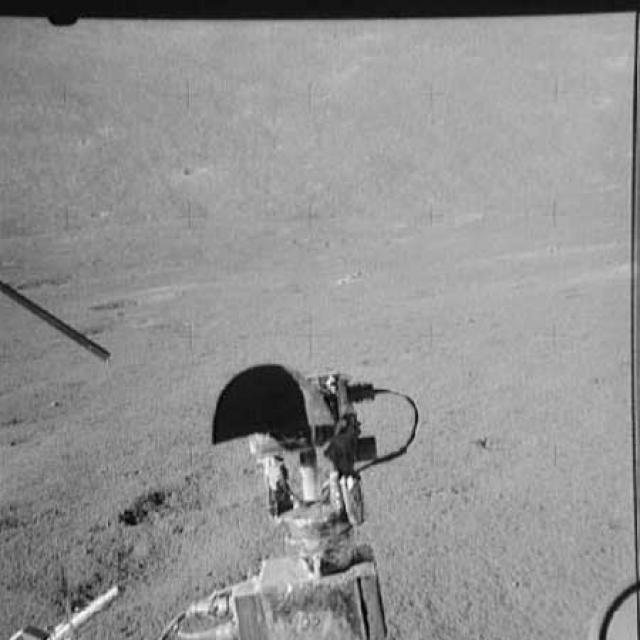artifact: (156, 357, 424, 639), (0, 282, 111, 374)
crater: (121, 454, 281, 529), (84, 276, 184, 318), (0, 263, 76, 293)
